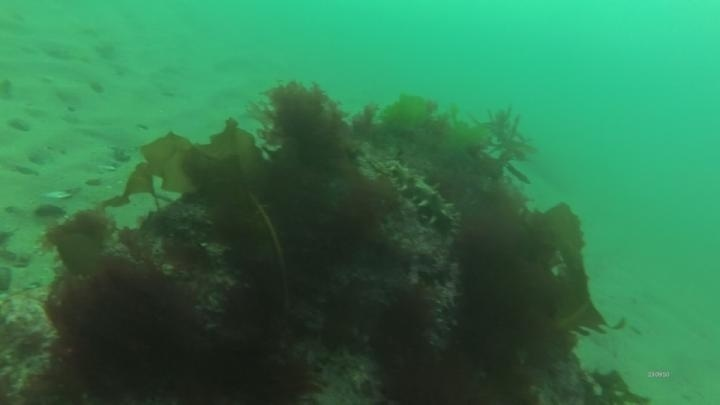holothurian: (383, 157, 458, 236)
